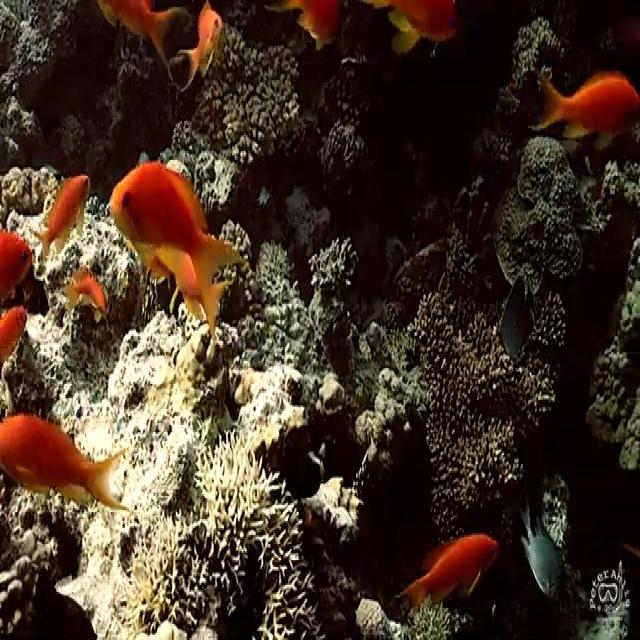Sea Goldie: (110, 161, 233, 300), (0, 412, 121, 514), (397, 528, 498, 614), (536, 66, 640, 143), (97, 0, 179, 64), (30, 176, 91, 251), (383, 0, 465, 53), (178, 1, 222, 74), (290, 0, 344, 53), (0, 236, 34, 303), (66, 268, 106, 313), (0, 308, 29, 354)
